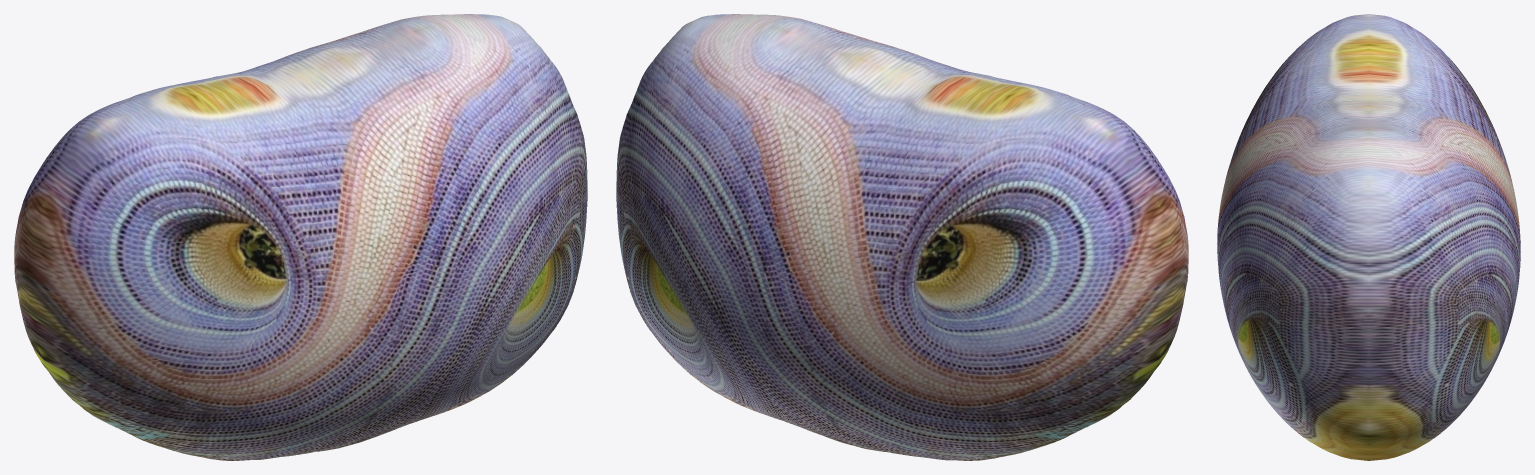
The model's file is asset.glb.
3 views of the same model, side by side, from view 1: azimuth 30°, elevation 25°; view 2: azimuth 150°, elevation 25°; view 3: azimuth 270°, elevation 25° (orthographic). The views are drawn at different scales.
Visible parts, largest first — view 1: mesh_0; view 2: mesh_0; view 3: mesh_0.
Part boxes in pixels (x1,y1,x2,y2): mesh_0: (14, 14, 587, 460); mesh_0: (616, 14, 1188, 460); mesh_0: (1217, 14, 1520, 460).
Size of the model in its own units: 0.4983 by 0.3355 by 0.2804.
1 material, 1 textured.
